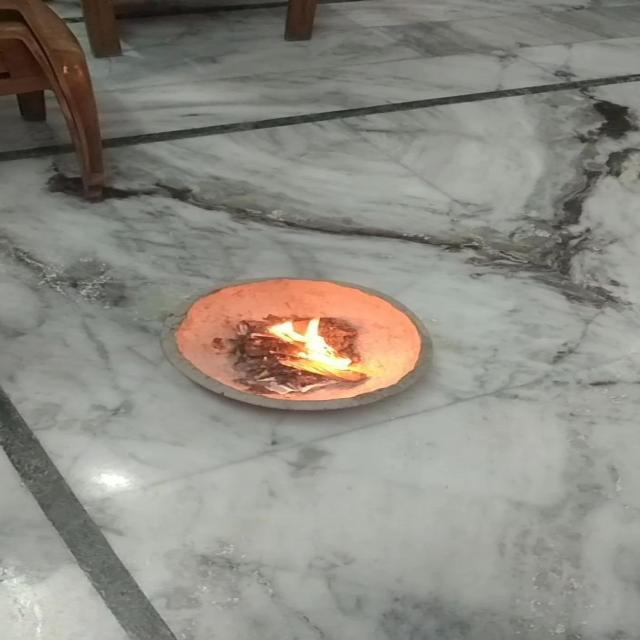smoke: (255, 311, 360, 378)
